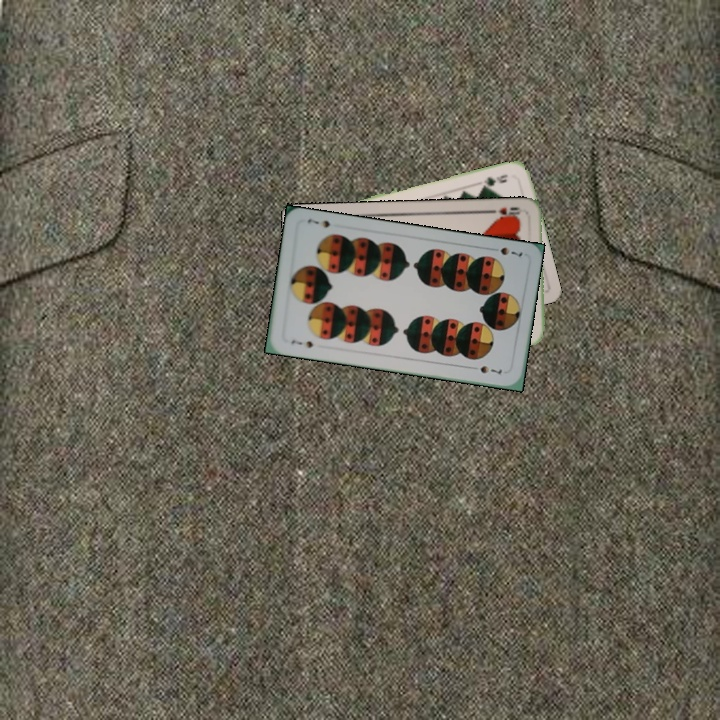G9: (477, 170, 511, 191)
HO: (485, 203, 523, 221)
S7: (486, 243, 525, 259), (287, 335, 316, 350)
